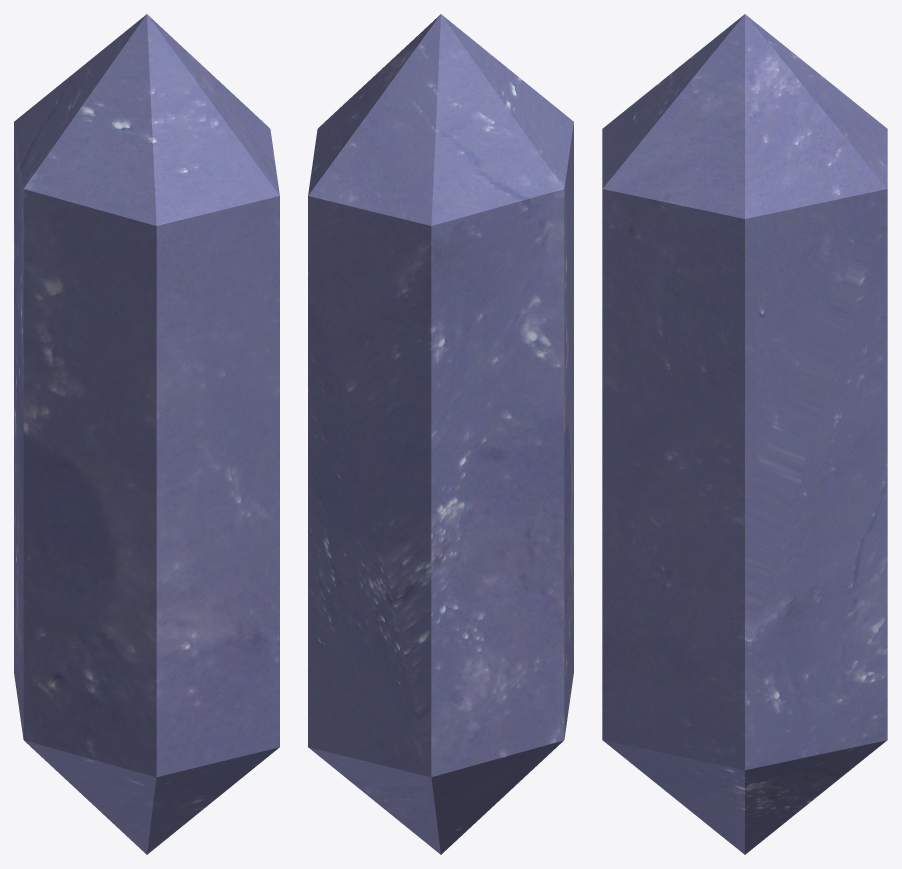
Rendered from crystalexport.gltf.
3 renders of one model, left to right at view 1: azimuth 30°, elevation 25°; view 2: azimuth 150°, elevation 25°; view 3: azimuth 270°, elevation 25°, orthographic.
Parts seen in each view (by area): view 1: crystal_1; view 2: crystal_1; view 3: crystal_1.
Boxes of the visible parts, x1,y1,x2,y2 form: crystal_1: [14, 14, 279, 854]; crystal_1: [308, 14, 573, 854]; crystal_1: [602, 14, 887, 854].
Bounding box in the file's own units: 8 × 26.05 × 8.
1 material, 1 textured.
